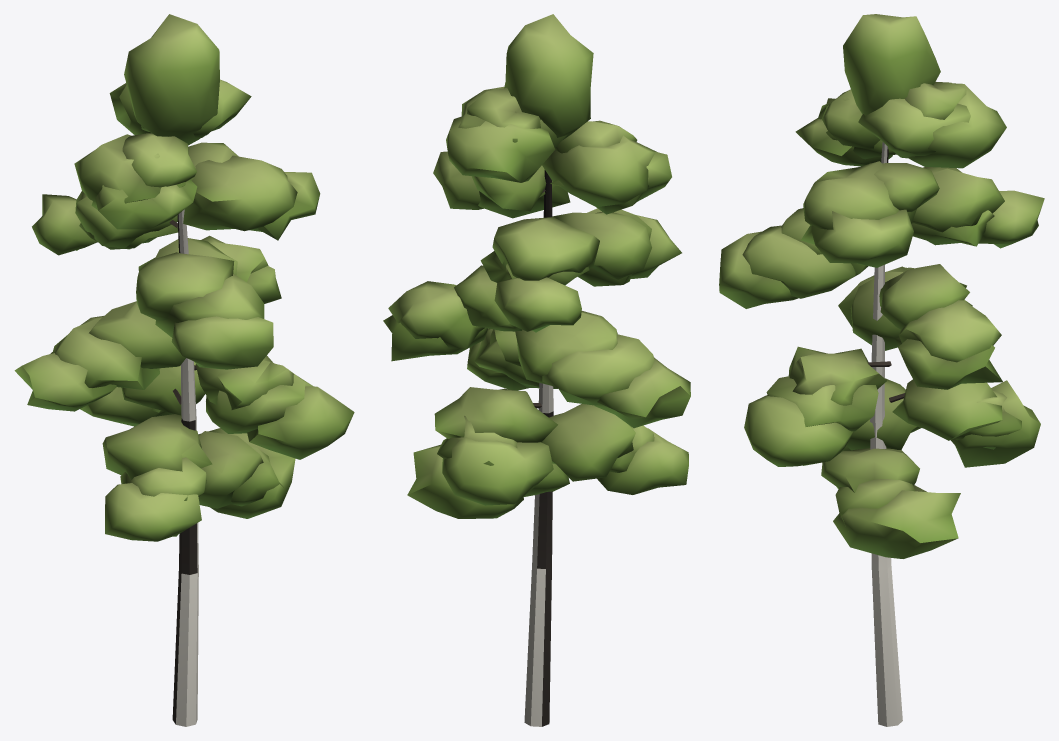
File: birch_tree.glb
3 renders of one model, left to right at view 1: azimuth 30°, elevation 25°; view 2: azimuth 150°, elevation 25°; view 3: azimuth 270°, elevation 25°, orthographic.
Visible parts, largest first — view 1: birch_tree_mesh; view 2: birch_tree_mesh; view 3: birch_tree_mesh.
Boxes of the visible parts, x1,y1,x2,y2 form: birch_tree_mesh: (14, 14, 354, 726); birch_tree_mesh: (383, 14, 690, 726); birch_tree_mesh: (719, 14, 1044, 726).
Size of the model in its own units: 4.84 by 12 by 5.02.
